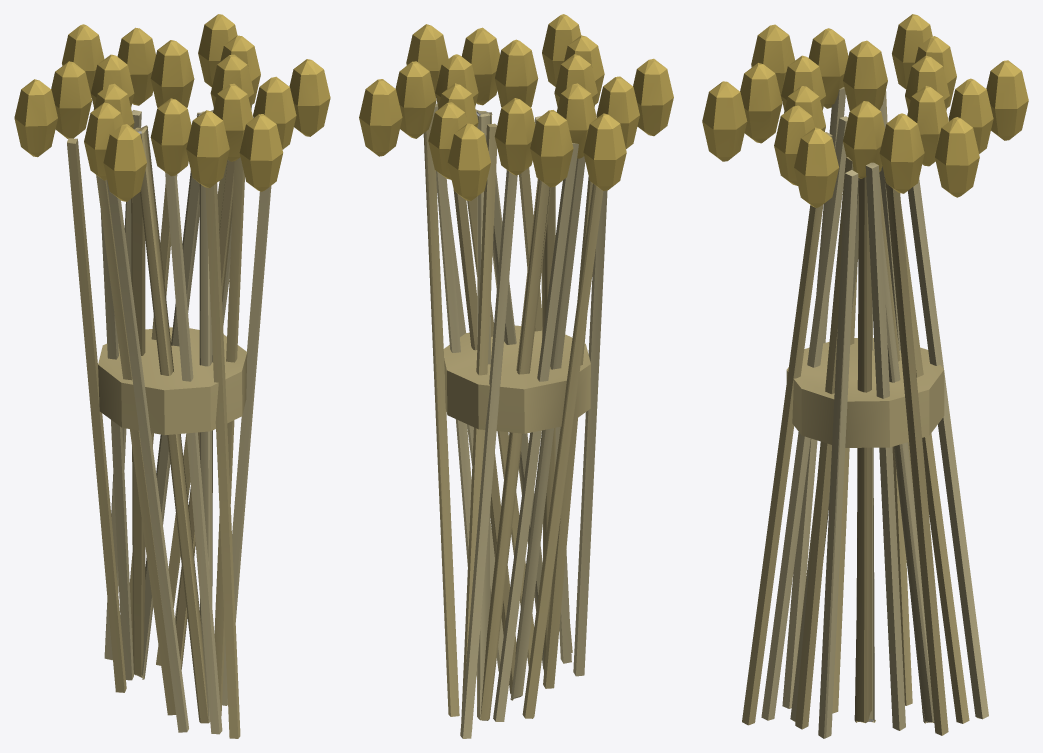
The model's file is harvest_straw_sheaf_low.glb.
The picture shows the model from 3 angles, left to right: view 1: azimuth 30°, elevation 25°; view 2: azimuth 150°, elevation 25°; view 3: azimuth 270°, elevation 25°; orthographic projection. The views are drawn at different scales.
Size of the model in its own units: 0.4651 by 1.09 by 0.4937.
